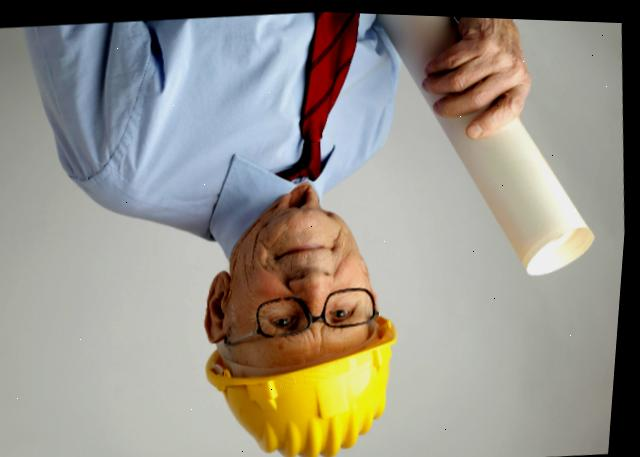helmet: (178, 324, 445, 457)
